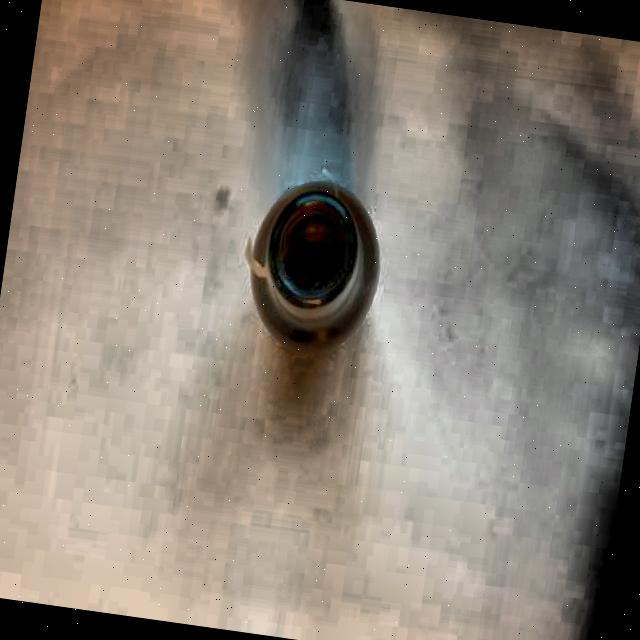glass: (230, 161, 398, 359)
